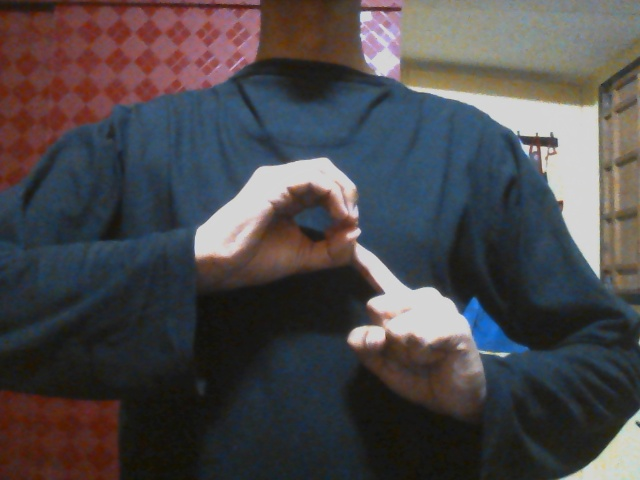Q: (205, 154, 482, 427)
